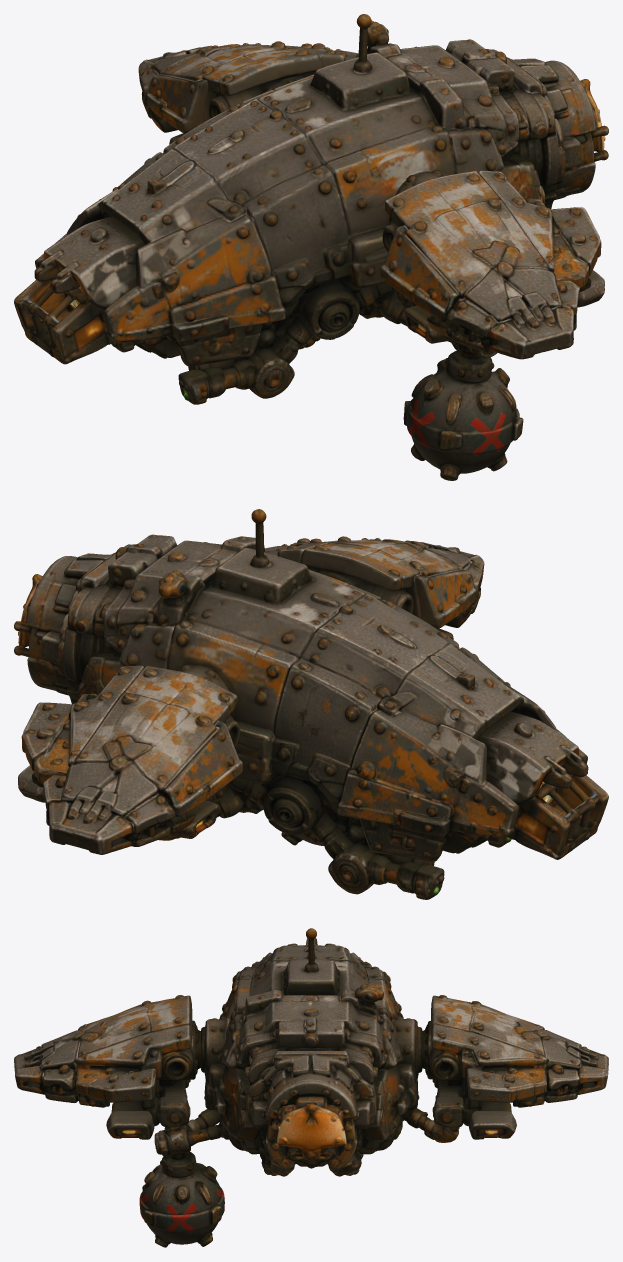
Rendered from bomblet_t1.glb.
3 renders of one model, top to bottom at view 1: azimuth 30°, elevation 25°; view 2: azimuth 150°, elevation 25°; view 3: azimuth 270°, elevation 25°, orthographic. The views are drawn at different scales.
Visible parts, largest first — view 1: tripo_node_02f8f236-0cfd-4e9f-86c0-3aaab2931b3c; view 2: tripo_node_02f8f236-0cfd-4e9f-86c0-3aaab2931b3c; view 3: tripo_node_02f8f236-0cfd-4e9f-86c0-3aaab2931b3c.
Boxes of the visible parts, x1=… form: tripo_node_02f8f236-0cfd-4e9f-86c0-3aaab2931b3c: x1=14, y1=14, x2=608, y2=480; tripo_node_02f8f236-0cfd-4e9f-86c0-3aaab2931b3c: x1=14, y1=509, x2=608, y2=899; tripo_node_02f8f236-0cfd-4e9f-86c0-3aaab2931b3c: x1=14, y1=928, x2=608, y2=1247.
Size of the model in its own units: 0.8353 by 0.5681 by 0.9999.
Materials: 1 (1 with a texture image).
